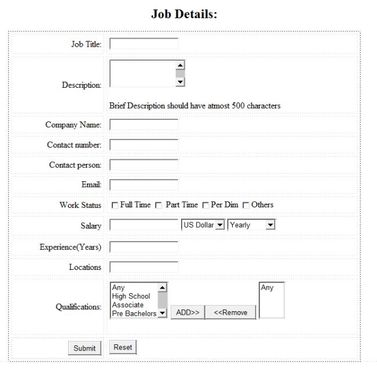_form_: (1, 1, 377, 380)
button: (205, 304, 257, 321), (170, 304, 206, 321), (68, 340, 103, 357), (109, 339, 139, 355)
checkbox: (109, 199, 121, 211), (155, 199, 165, 210), (242, 201, 250, 211), (202, 201, 210, 210)
checkbox_with_label: (107, 197, 152, 212), (153, 197, 198, 212), (200, 198, 239, 212), (240, 198, 274, 212)
field: (107, 239, 179, 256), (108, 217, 181, 233), (108, 158, 180, 174), (107, 178, 183, 193), (107, 260, 182, 275), (107, 138, 181, 153), (108, 117, 181, 132), (107, 36, 179, 51)
field_with_label: (40, 237, 181, 258), (46, 116, 182, 133), (47, 137, 182, 154), (49, 157, 182, 174), (69, 258, 184, 276), (80, 176, 184, 194), (79, 216, 183, 234), (71, 35, 180, 52)
select: (227, 217, 278, 233), (181, 217, 226, 233)
